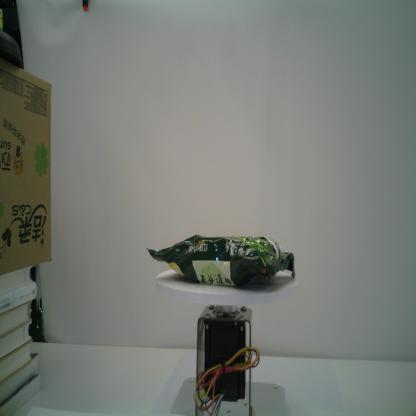Instant Noodles: (142, 231, 297, 289)
